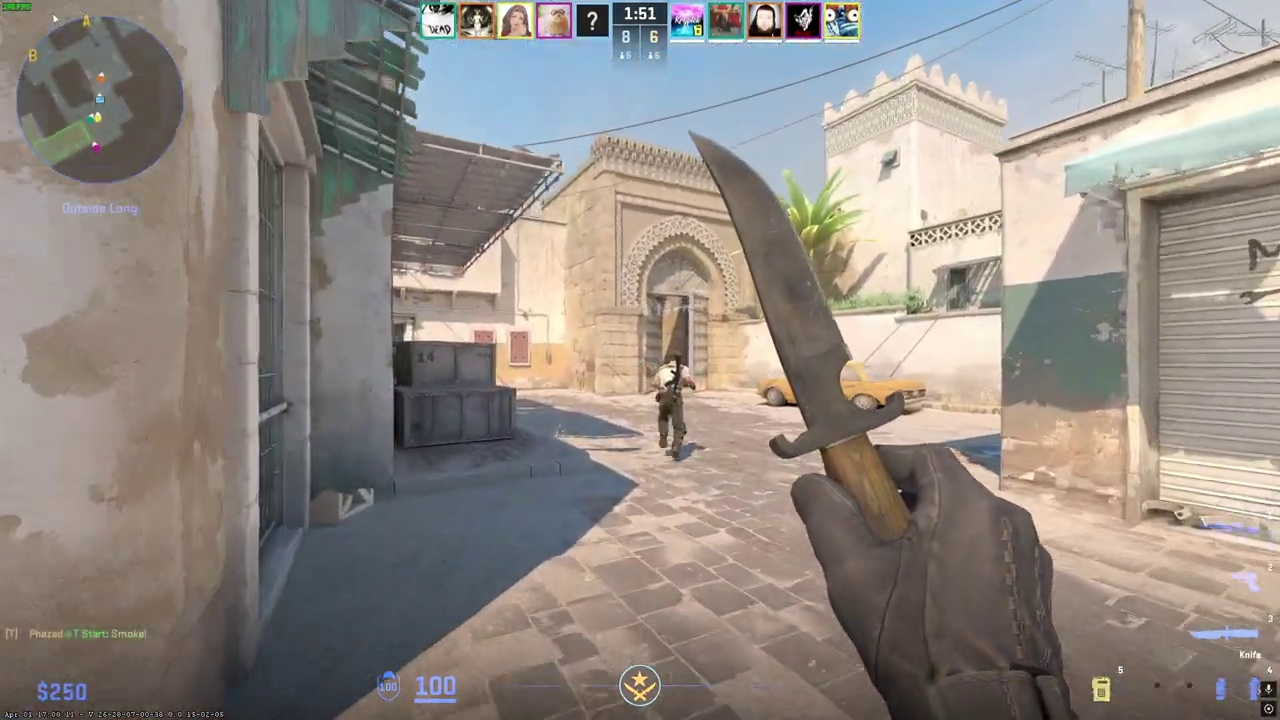Terrorist: (652, 352, 695, 460)
